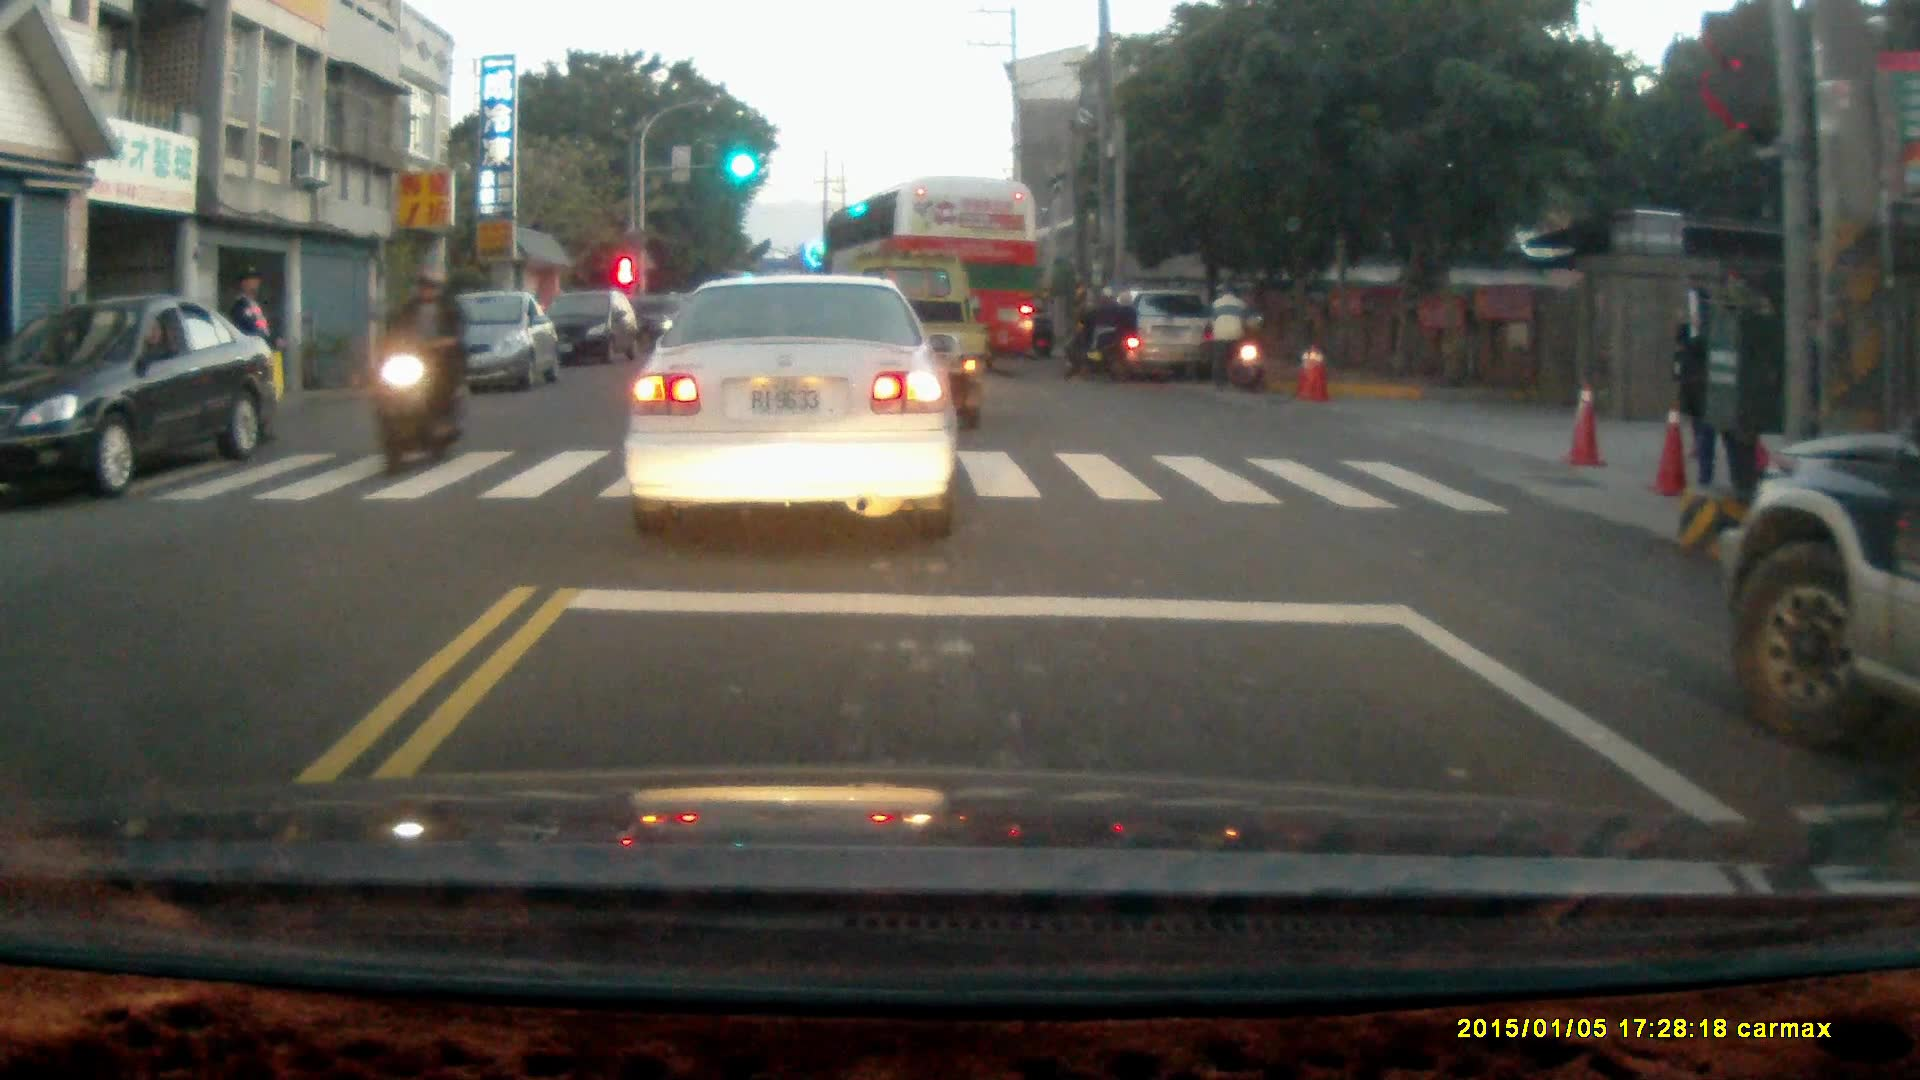pedestrian: (1670, 283, 1721, 456), (228, 268, 278, 440), (1211, 279, 1251, 388)
rider: (363, 265, 470, 476), (1066, 283, 1135, 383)
vehicle: (621, 270, 960, 541), (1715, 420, 1920, 754), (2, 295, 283, 506), (821, 176, 1044, 383), (407, 290, 560, 401), (1096, 289, 1216, 385), (540, 294, 640, 372)
